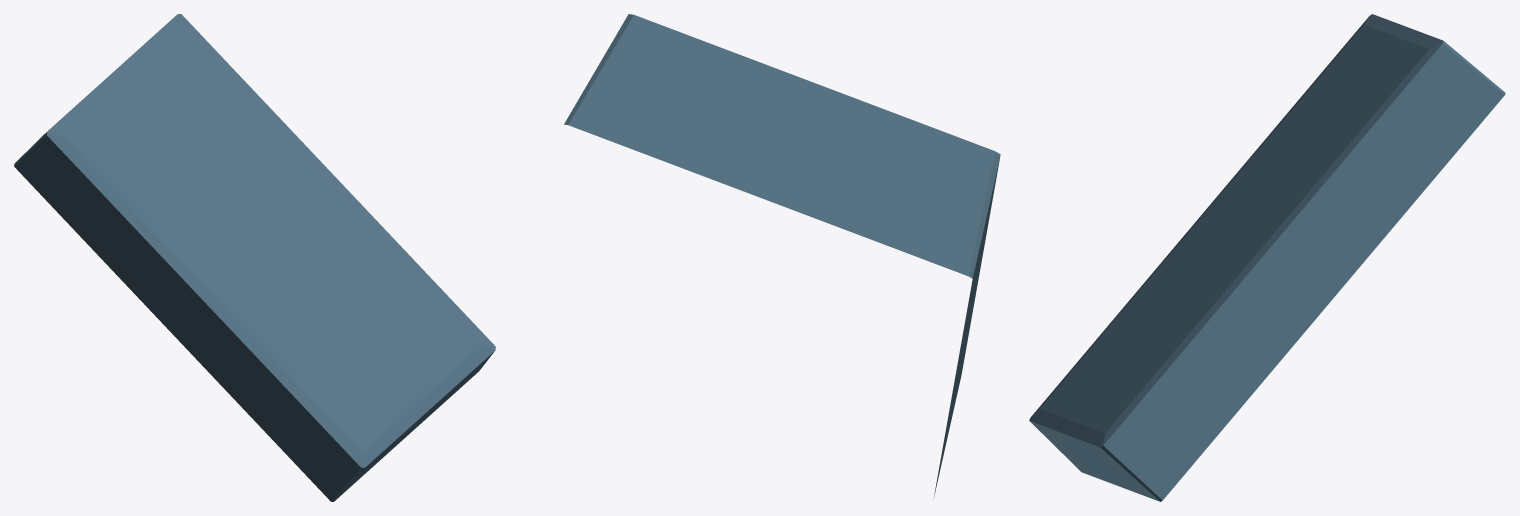
Rendered from steel-plate.glb.
The picture shows the model from 3 angles, left to right: view 1: azimuth 30°, elevation 25°; view 2: azimuth 150°, elevation 25°; view 3: azimuth 270°, elevation 25°; orthographic projection. The views are drawn at different scales.
Visible parts, largest first — view 1: Cube.021; view 2: Cube.021; view 3: Cube.021.
Boxes of the visible parts, left/top/right/bottom form: Cube.021: left=14, top=14, right=495, bottom=501; Cube.021: left=564, top=14, right=1000, bottom=498; Cube.021: left=1029, top=14, right=1505, bottom=501.
Bounding box in the file's own units: 4.93 × 5 × 5.
